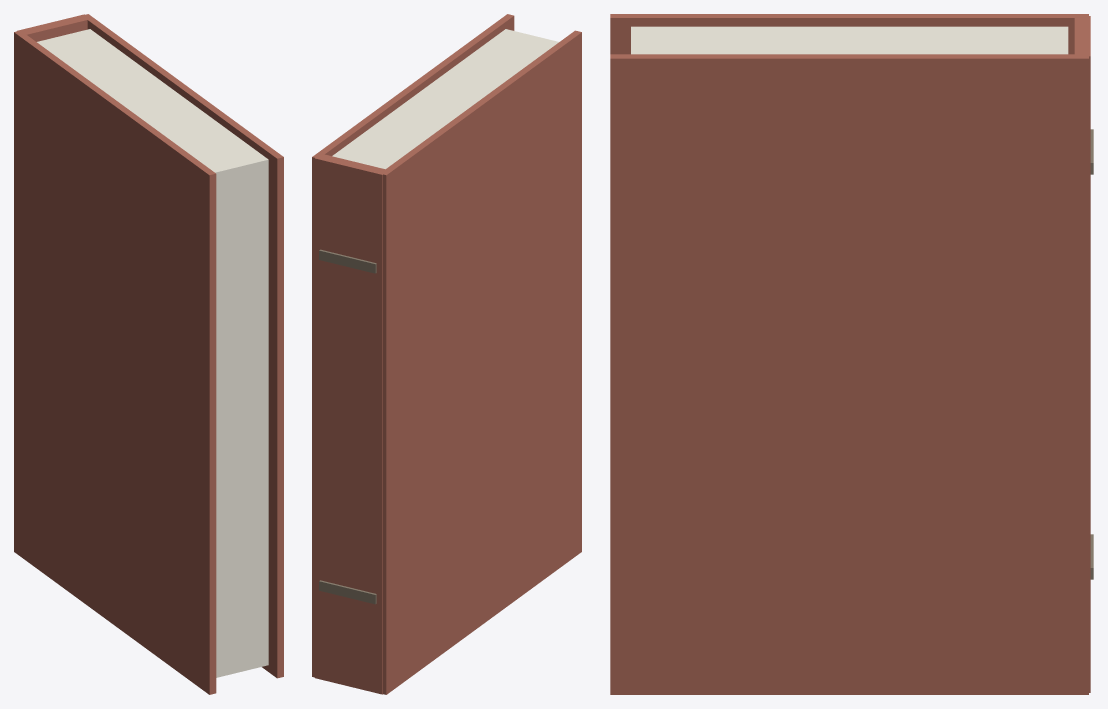
The model's file is book-red.glb.
The picture shows the model from 3 angles, left to right: view 1: azimuth 30°, elevation 25°; view 2: azimuth 150°, elevation 25°; view 3: azimuth 270°, elevation 25°; orthographic projection. The views are drawn at different scales.
Parts seen in each view (by area): view 1: book-red; view 2: book-red; view 3: book-red.
Part boxes in pixels (left/top/right/bottom): book-red: left=14, top=14, right=283, bottom=694; book-red: left=312, top=14, right=581, bottom=694; book-red: left=610, top=14, right=1093, bottom=694.
Bounding box in the file's own units: 0.033 × 0.22 × 0.1515.
